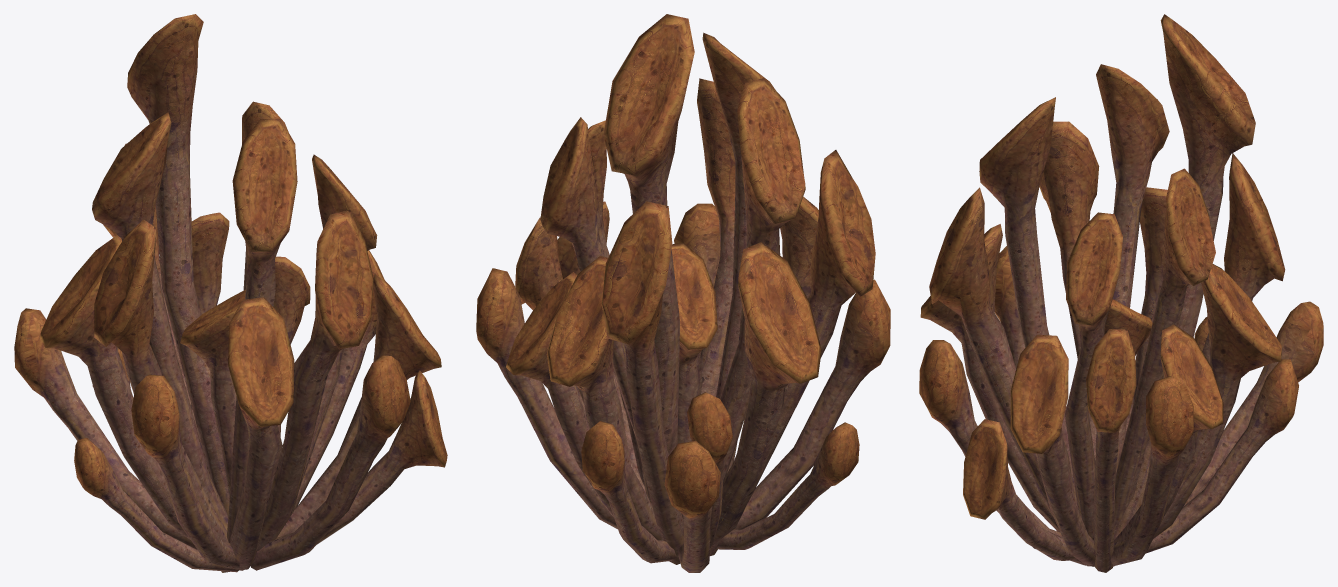
File: Shroom_Plant2_1_L0.fbx
3 renders of one model, left to right at view 1: azimuth 30°, elevation 25°; view 2: azimuth 150°, elevation 25°; view 3: azimuth 270°, elevation 25°, orthographic. The views are drawn at different scales.
Parts seen in each view (by area): view 1: polySurface282; view 2: polySurface282; view 3: polySurface282.
Part boxes in pixels (box(x1,y1,x2,y2)): polySurface282: box(14, 14, 447, 572); polySurface282: box(476, 14, 890, 572); polySurface282: box(919, 14, 1323, 572).
Size of the model in its own units: 85.66 by 134 by 92.39.
